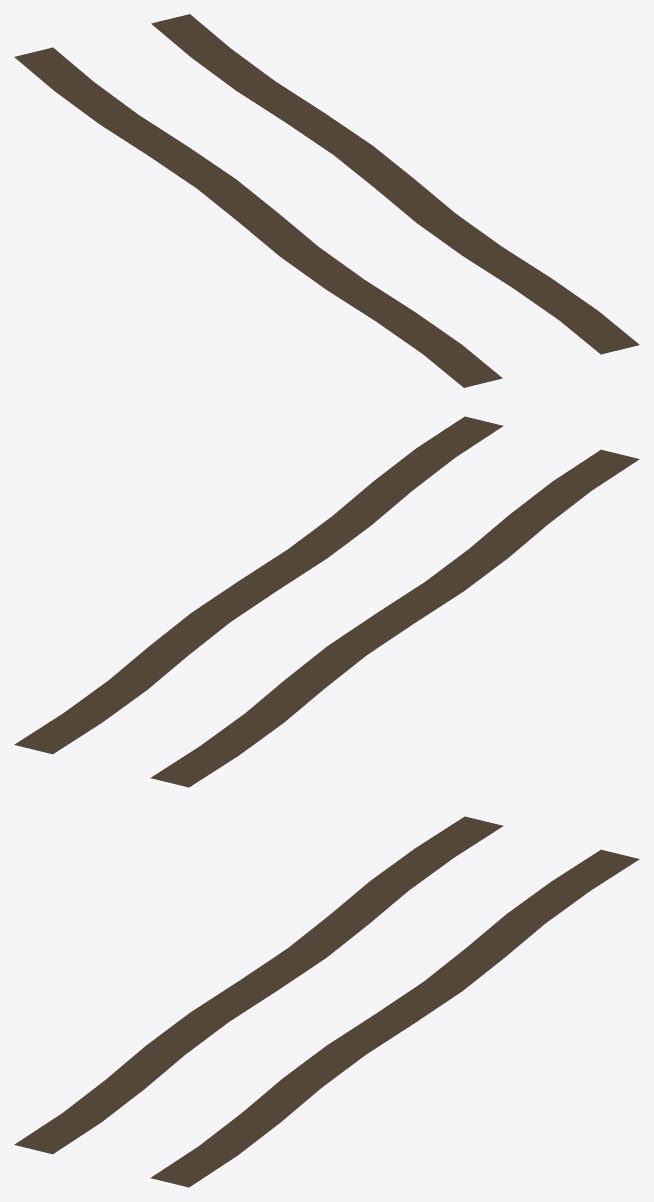
File: decal_mud_ruts.glb
The picture shows the model from 3 angles, top to bottom: view 1: azimuth 30°, elevation 25°; view 2: azimuth 150°, elevation 25°; view 3: azimuth 330°, elevation 25°; orthographic projection.
Parts seen in each view (by area): view 1: ruts; view 2: ruts; view 3: ruts.
Part boxes in pixels (x1=…): ruts: x1=14, y1=14, x2=639, y2=387; ruts: x1=14, y1=416, x2=639, y2=787; ruts: x1=14, y1=816, x2=639, y2=1187.
Bounding box in the file's own units: 0.9376 × 0 × 4.
